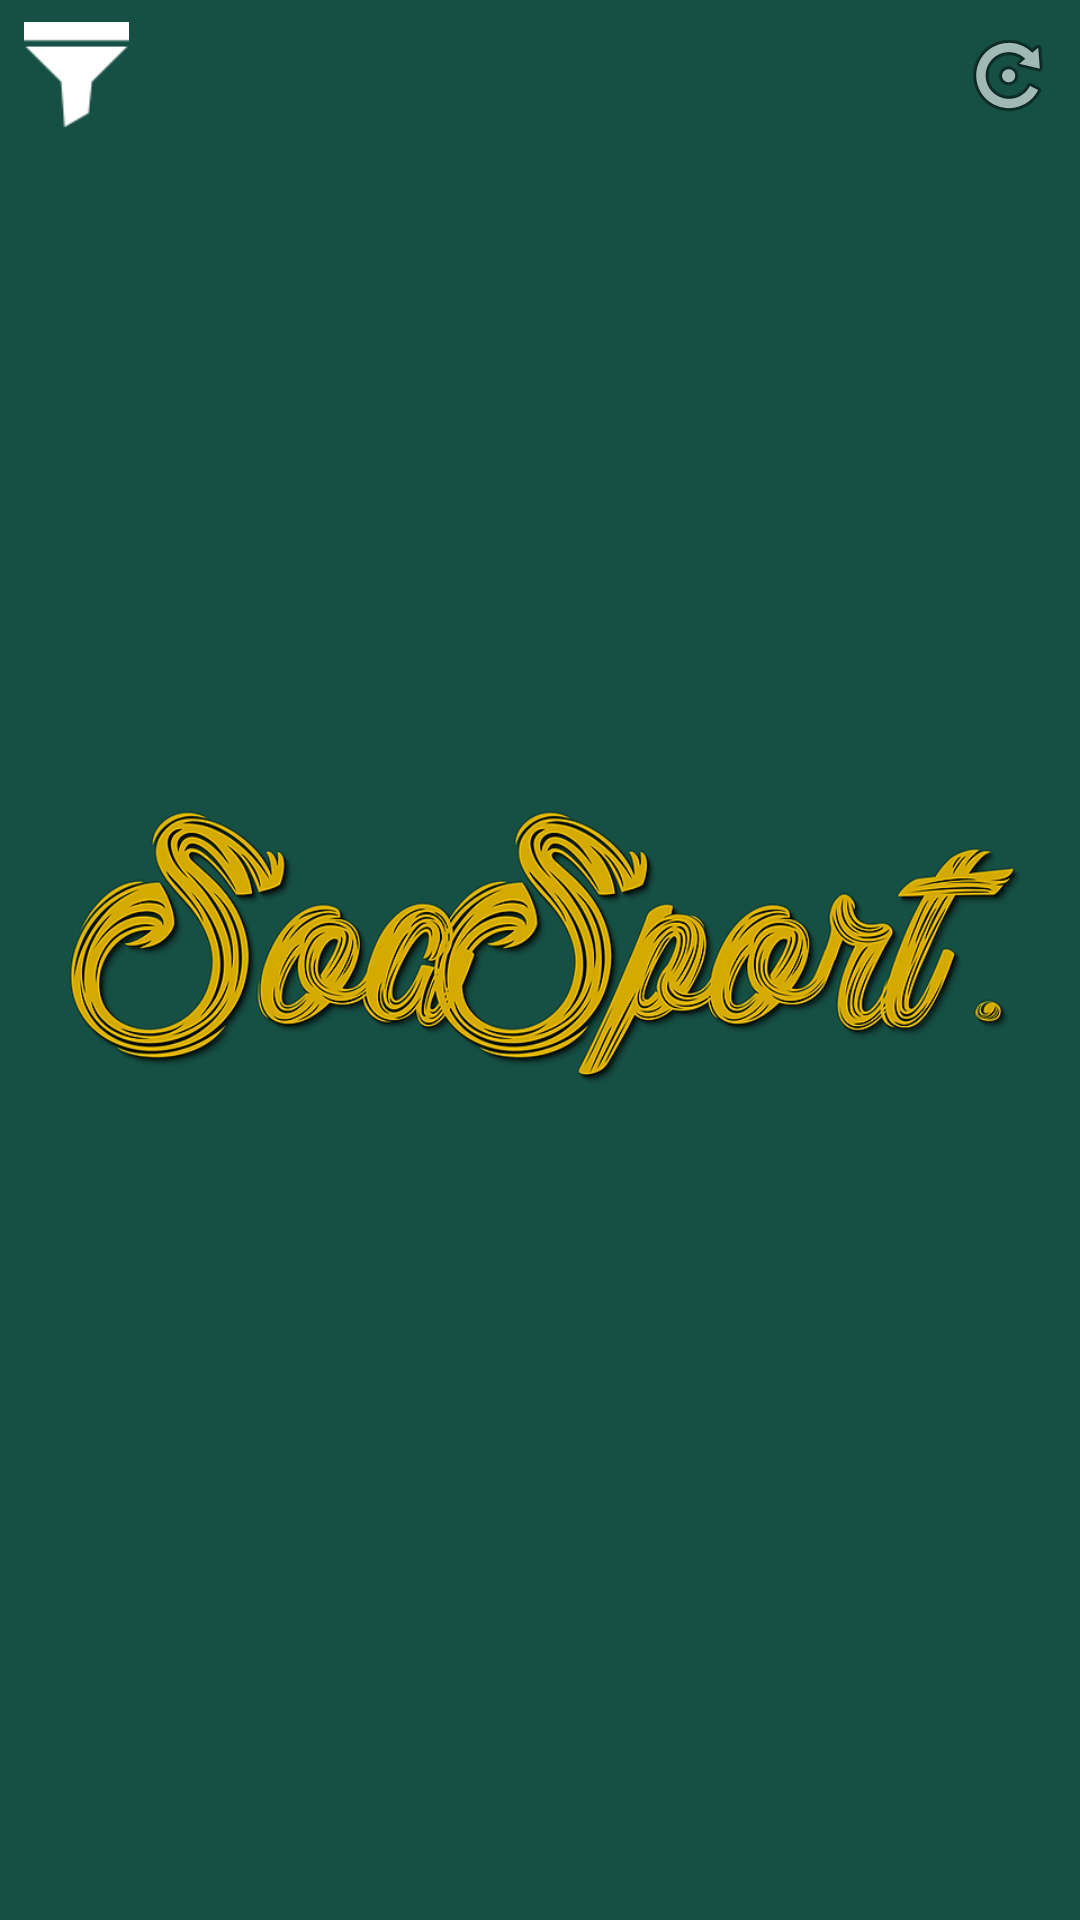

Icon bounding boxes for this 1080×1920 phone screenshot, format box(x1, y1, x2, y2):
funnel: box(24, 22, 129, 127)
rotate: box(973, 40, 1043, 111)
